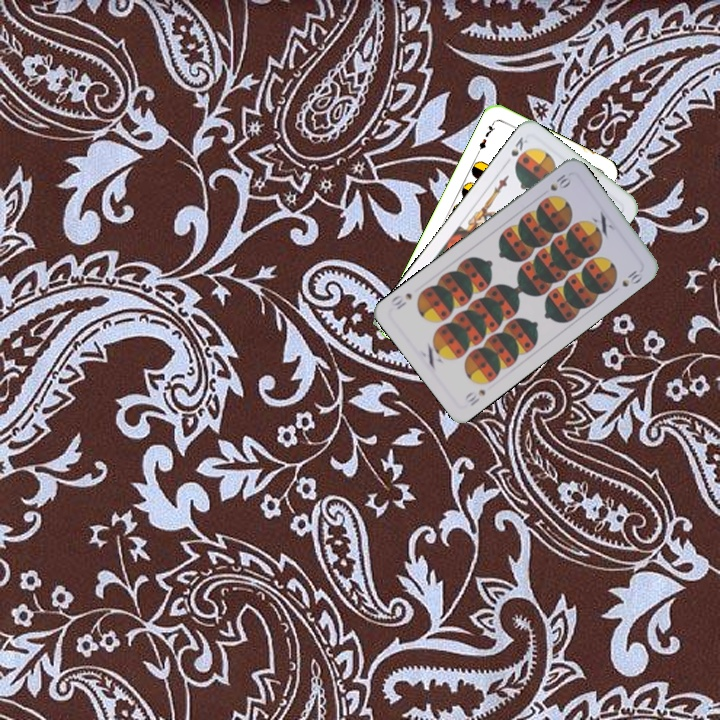E7: (474, 118, 498, 156)
S10: (461, 385, 488, 409), (546, 170, 572, 194)
SK: (507, 132, 531, 159)
